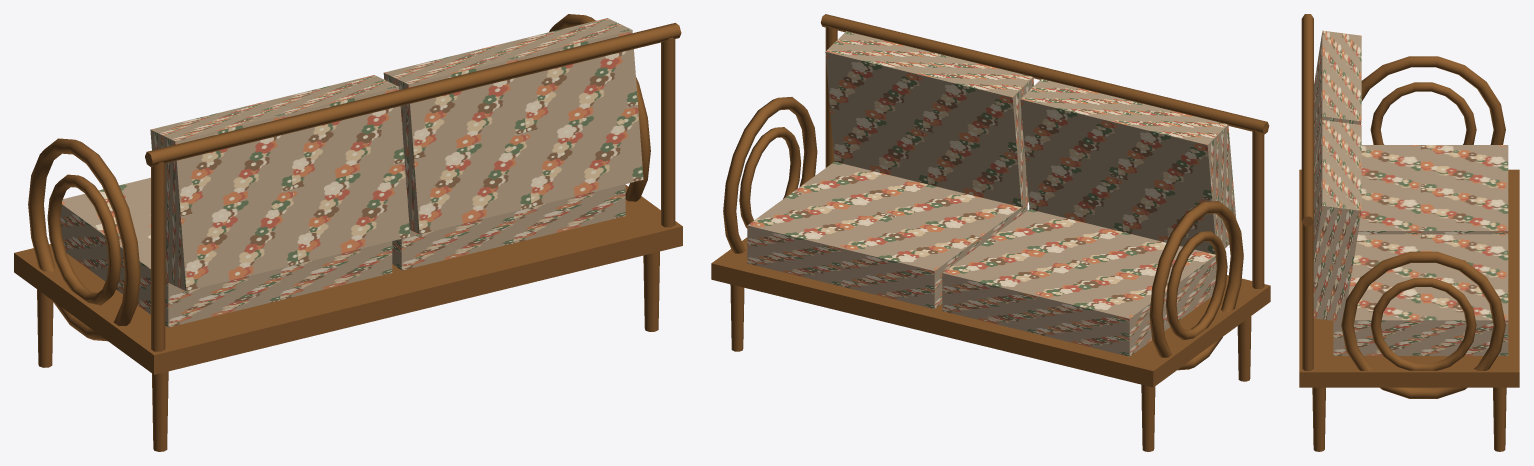
File: sofa-rattan.glb
The picture shows the model from 3 angles, left to right: view 1: azimuth 30°, elevation 25°; view 2: azimuth 150°, elevation 25°; view 3: azimuth 270°, elevation 25°; orthographic projection. The views are drawn at different scales.
Visible parts, largest first — view 1: sofa-rattan; view 2: sofa-rattan; view 3: sofa-rattan.
Boxes of the visible parts, x1,y1,x2,y2 form: sofa-rattan: (14,14,682,451); sofa-rattan: (711,14,1270,451); sofa-rattan: (1299,14,1519,451).
Bounding box in the file's own units: 1.7 × 0.9391 × 0.78.
2 materials, 1 textured.
